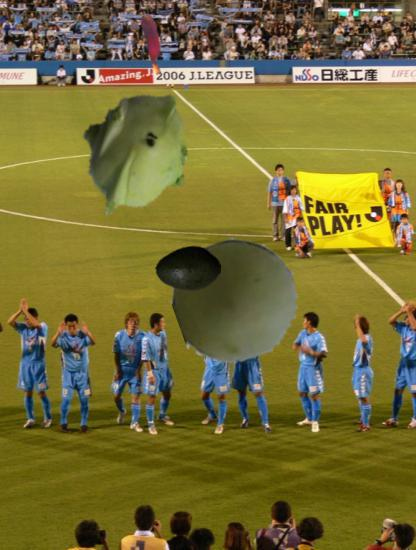Avocado: (155, 235, 221, 301)
Banana: (119, 13, 183, 77)
Grape: (174, 237, 300, 363)
Kohlrabi: (66, 84, 207, 225)
